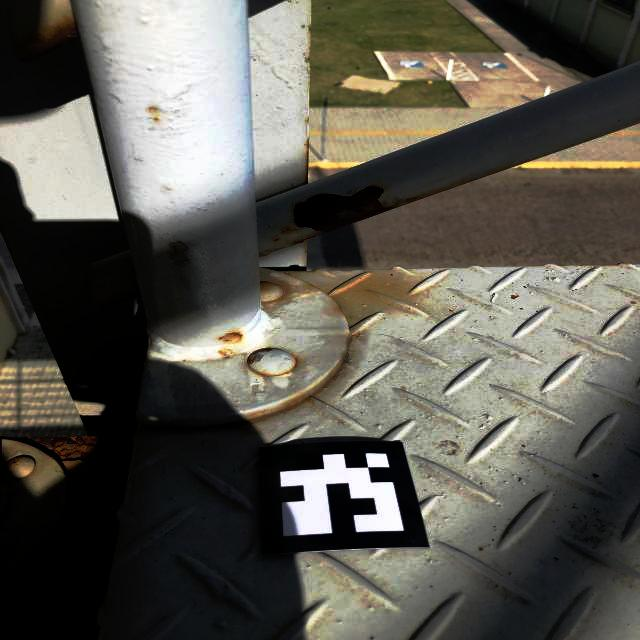Corrosion: (0, 507, 117, 602), (293, 185, 393, 232), (0, 436, 119, 462), (19, 15, 78, 62), (249, 348, 272, 365), (218, 332, 242, 344)
